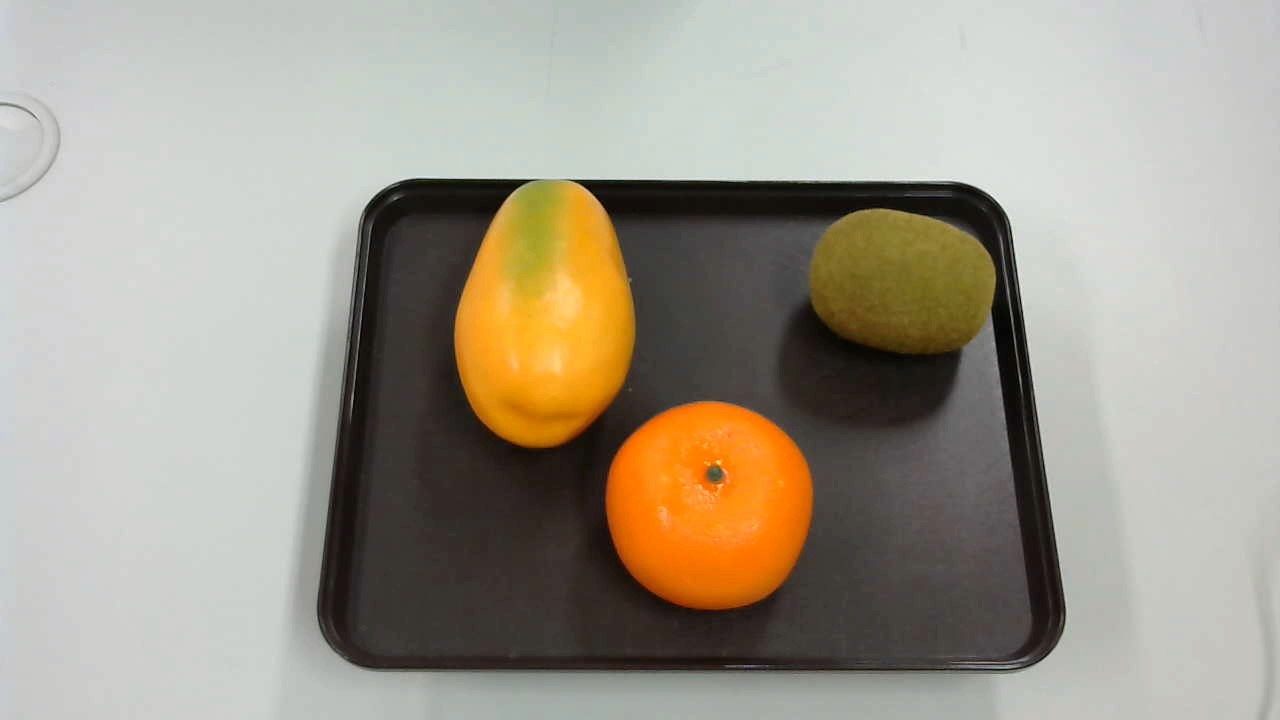kiwi fruit: (800, 198, 1000, 363)
orange: (606, 401, 813, 610)
papya: (451, 178, 634, 450)
